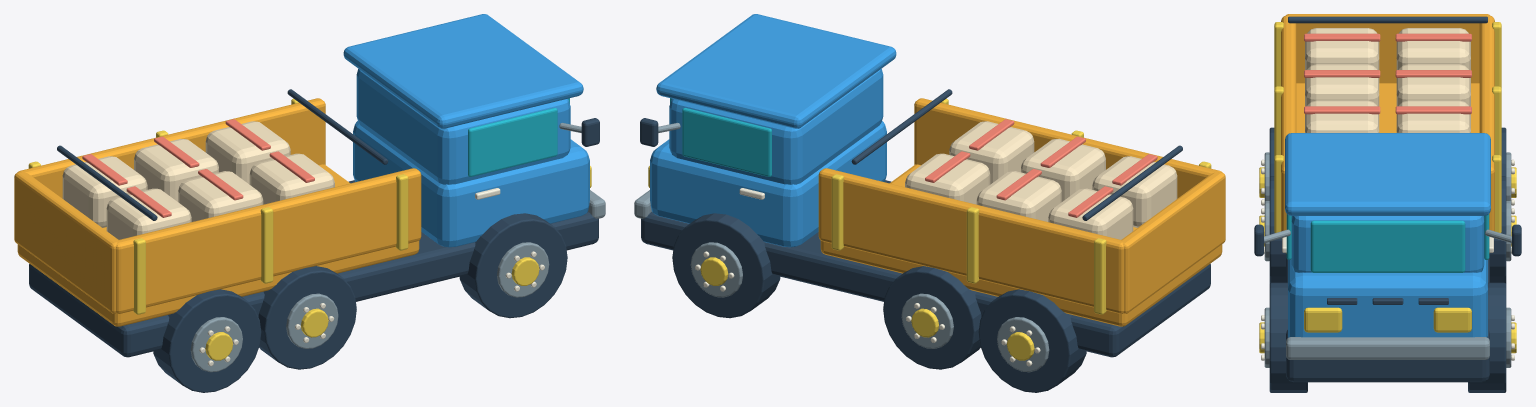
File: SM_TransportTruck.fbx
3 views of the same model, side by side, from view 1: azimuth 30°, elevation 25°; view 2: azimuth 150°, elevation 25°; view 3: azimuth 270°, elevation 25° (orthographic). The views are drawn at different scales.
Visible parts, largest first — view 1: Cargo side board, Cab roof.001, Cab lower body.001, Truck ladder chassis, Cargo tailgate, Cab upper body.001, Chunky tire.010, Chunky tire.006, Chunky tire.008, Cargo side board.001, Cab side window.002, Cargo bed floor (+17 smaller); view 2: Cargo side board.001, Cab roof.001, Cab lower body.001, Truck ladder chassis, Cargo tailgate, Cab upper body.001, Chunky tire.011, Chunky tire.007, Chunky tire.009, Cargo side board, Cab side window.003, Cargo bed floor (+17 smaller); view 3: Cab roof.001, Cab lower body.001, Front windshield.001, Truck ladder chassis, Front bumper.001, Cargo tailgate, Cab upper body.001, Chunky tire.010, Chunky tire.011, Bagged building material.002, Bagged building material.003, Cargo side board.001 (+35 smaller).
Boxes of the visible parts, bbox=[...] form: Cargo side board: bbox=[116, 168, 421, 313]; Cab roof.001: bbox=[343, 14, 583, 128]; Cab lower body.001: bbox=[353, 121, 589, 247]; Truck ladder chassis: bbox=[29, 180, 598, 357]; Cargo tailgate: bbox=[14, 172, 118, 313]; Cab upper body.001: bbox=[356, 69, 570, 184]; Chunky tire.010: bbox=[459, 213, 567, 318]; Chunky tire.006: bbox=[153, 289, 261, 392]; Chunky tire.008: bbox=[258, 266, 356, 369]; Cargo side board.001: bbox=[17, 98, 325, 198]; Cab side window.002: bbox=[468, 108, 557, 176]; Cargo bed floor: bbox=[17, 164, 419, 326]; Cargo side board.001: bbox=[818, 168, 1123, 313]; Cab roof.001: bbox=[656, 14, 896, 128]; Cab lower body.001: bbox=[650, 121, 886, 247]; Truck ladder chassis: bbox=[641, 180, 1210, 357]; Cargo tailgate: bbox=[1121, 171, 1225, 313]; Cab upper body.001: bbox=[669, 69, 883, 184]; Chunky tire.011: bbox=[672, 213, 780, 318]; Chunky tire.007: bbox=[978, 289, 1086, 392]; Chunky tire.009: bbox=[883, 266, 981, 369]; Cargo side board: bbox=[914, 98, 1222, 198]; Cab side window.003: bbox=[682, 108, 771, 176]; Cargo bed floor: bbox=[820, 164, 1222, 326]; Cab roof.001: bbox=[1285, 133, 1490, 215]; Cab lower body.001: bbox=[1288, 259, 1487, 337]; Front windshield.001: bbox=[1310, 220, 1465, 272]; Truck ladder chassis: bbox=[1286, 253, 1489, 382]; Front bumper.001: bbox=[1286, 337, 1489, 359]; Cargo tailgate: bbox=[1286, 14, 1489, 83]; Cab upper body.001: bbox=[1291, 216, 1484, 272]; Chunky tire.010: bbox=[1269, 282, 1307, 392]; Chunky tire.011: bbox=[1468, 282, 1506, 392]; Bagged building material.002: bbox=[1305, 64, 1379, 106]; Bagged building material.003: bbox=[1396, 64, 1470, 106]; Cargo side board.001: bbox=[1479, 15, 1494, 231].
Bounding box in the file's own units: 6.23 × 2.54 × 2.8.
